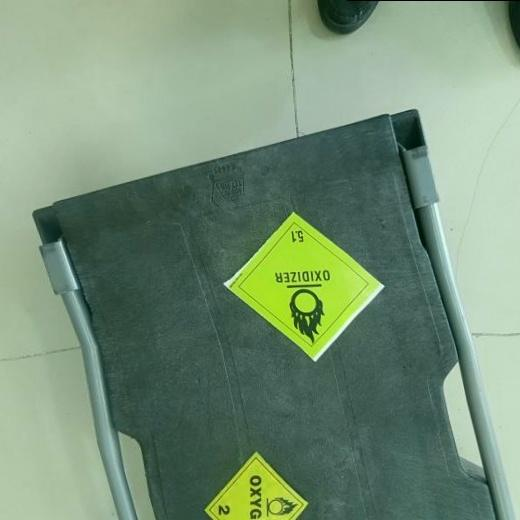oxidizer: (225, 208, 386, 369), (204, 451, 309, 519)
